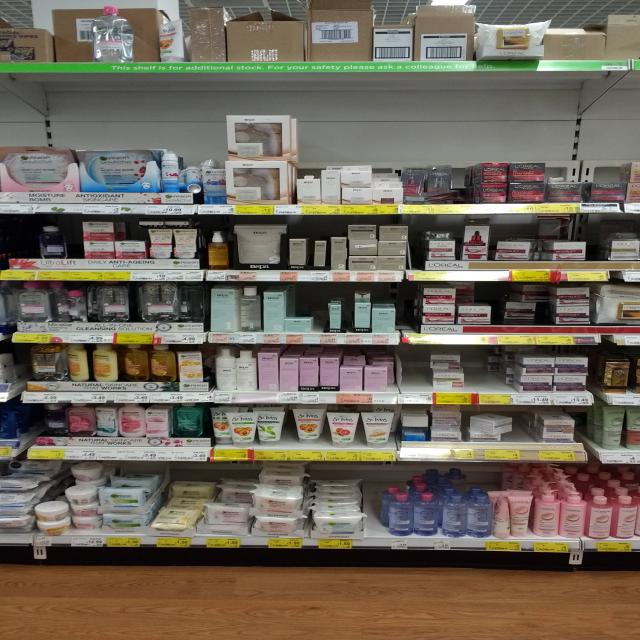empty: (460, 339, 517, 394), (5, 221, 43, 269), (399, 340, 434, 389)
